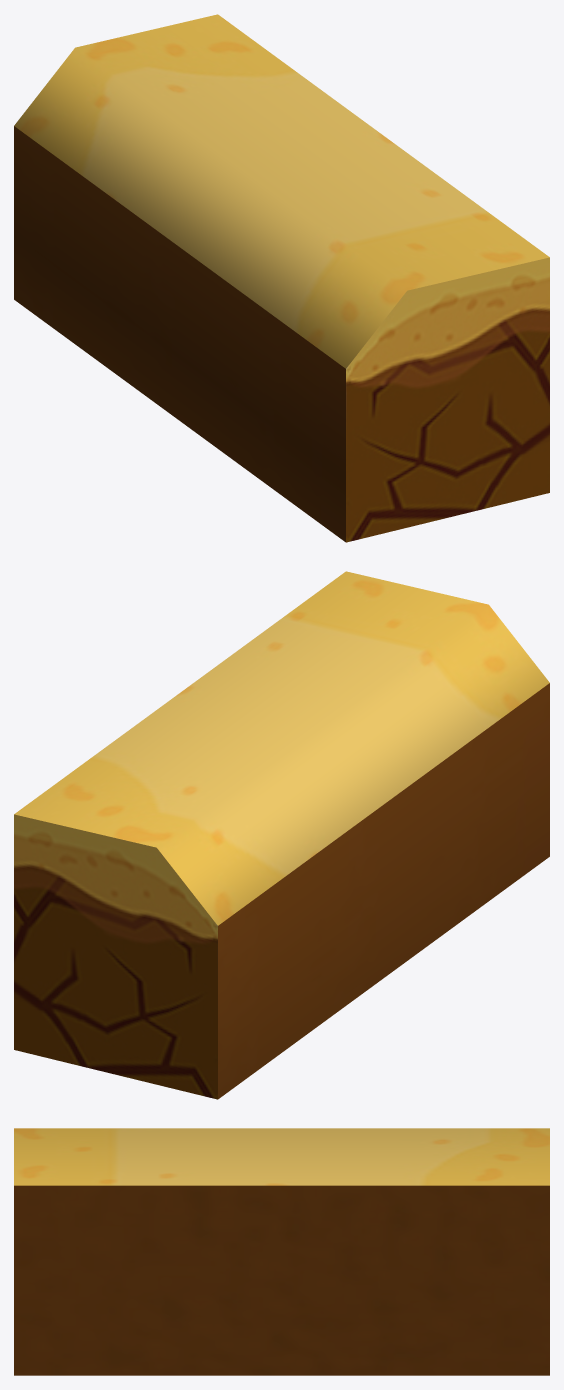
Rendered from Desert_R_2.fbx.
The picture shows the model from 3 angles, top to bottom: view 1: azimuth 30°, elevation 25°; view 2: azimuth 150°, elevation 25°; view 3: azimuth 270°, elevation 25°; orthographic projection. The views are drawn at different scales.
Visible parts, largest first — view 1: Desert_R_2; view 2: Desert_R_2; view 3: Desert_R_2.
Part boxes in pixels (box(x1,y1,x2,y2)): Desert_R_2: box(14, 14, 549, 542); Desert_R_2: box(14, 571, 549, 1099); Desert_R_2: box(14, 1128, 549, 1375).
Bounding box in the file's own units: 1.51 × 1.68 × 4.26.
1 material, 1 textured.
